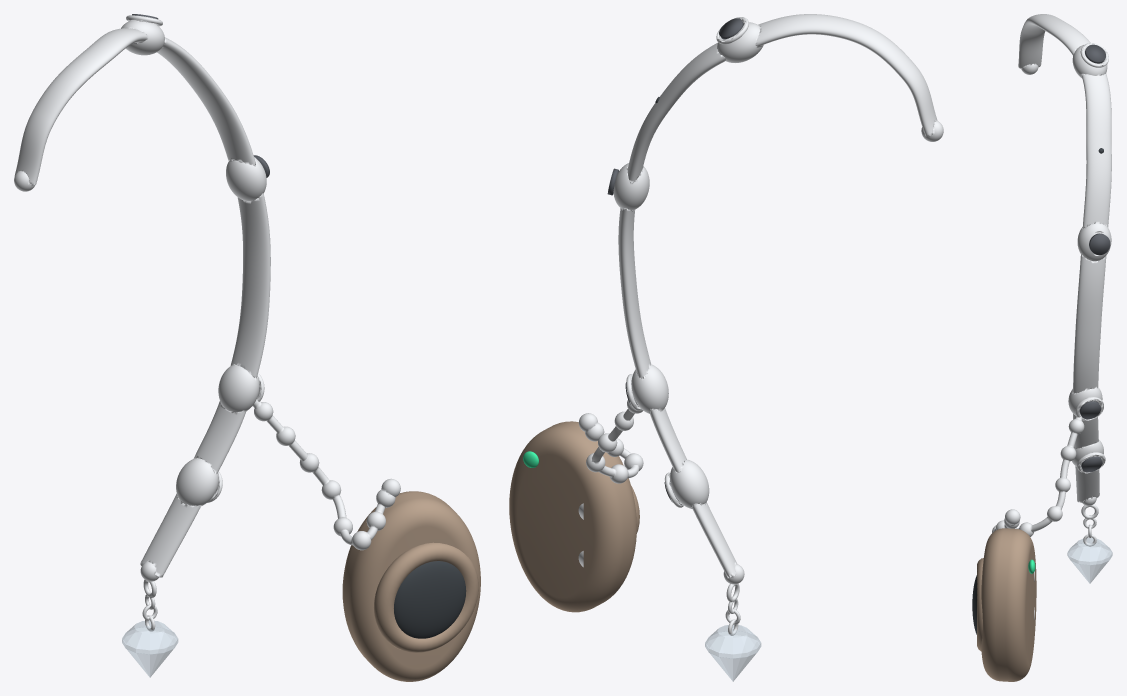
File: vibra-safe.glb
3 renders of one model, left to right at view 1: azimuth 30°, elevation 25°; view 2: azimuth 150°, elevation 25°; view 3: azimuth 270°, elevation 25°, orthographic. The views are drawn at different scales.
Visible parts, largest first — view 1: GC_Cuff_Body, GC_BoneConduction_Pad, GC_BoneConduction_Collar, GC_BoneConduction_Face, GC_Link_Chain, GC_Earring_Gem; view 2: GC_Cuff_Body, GC_BoneConduction_Pad, GC_Link_Chain, GC_Earring_Gem; view 3: GC_Cuff_Body, GC_BoneConduction_Pad, GC_Link_Chain, GC_Earring_Gem, GC_BoneConduction_Collar, GC_Earring_Bail, GC_TactileNode_1, GC_TactileNode_0, GC_TactileNode_2, GC_TactileNode_3.
Boxes of the visible parts, left/top/right/bottom form: GC_Cuff_Body: left=14, top=15, right=270, bottom=581; GC_BoneConduction_Pad: left=342, top=491, right=480, bottom=681; GC_BoneConduction_Collar: left=374, top=542, right=478, bottom=652; GC_BoneConduction_Face: left=394, top=561, right=466, bottom=638; GC_Link_Chain: left=252, top=399, right=400, bottom=550; GC_Earring_Gem: left=122, top=620, right=178, bottom=677; GC_Cuff_Body: left=613, top=14, right=943, bottom=584; GC_BoneConduction_Pad: left=509, top=421, right=636, bottom=612; GC_Link_Chain: left=578, top=400, right=643, bottom=483; GC_Earring_Gem: left=705, top=625, right=761, bottom=681; GC_Cuff_Body: left=1018, top=14, right=1111, bottom=505; GC_BoneConduction_Pad: left=981, top=528, right=1036, bottom=681; GC_Link_Chain: left=992, top=416, right=1084, bottom=536; GC_Earring_Gem: left=1067, top=538, right=1112, bottom=583; GC_BoneConduction_Collar: left=977, top=558, right=983, bottom=651; GC_Earring_Bail: left=1081, top=504, right=1098, bottom=546; GC_TactileNode_1: left=1089, top=233, right=1110, bottom=255; GC_TactileNode_0: left=1085, top=44, right=1105, bottom=63; GC_TactileNode_2: left=1079, top=401, right=1100, bottom=419; GC_TactileNode_3: left=1081, top=456, right=1102, bottom=472.
Size of the model in its own units: 0.0547 by 0.0801 by 0.0186.
